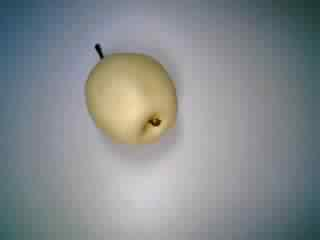pear: (74, 35, 181, 149)
